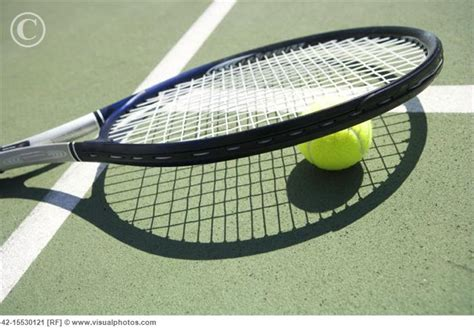tennis_ball: (301, 104, 372, 169)
